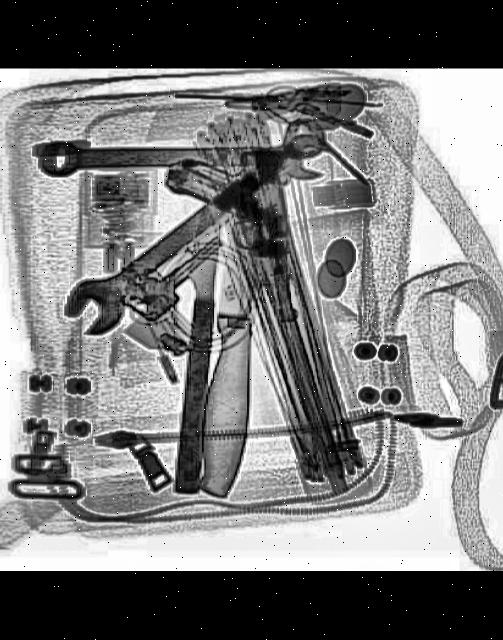Gun: (160, 152, 294, 328)
Knife: (190, 167, 270, 496), (168, 126, 227, 493)
Wrench: (53, 103, 340, 340), (37, 132, 328, 180)
